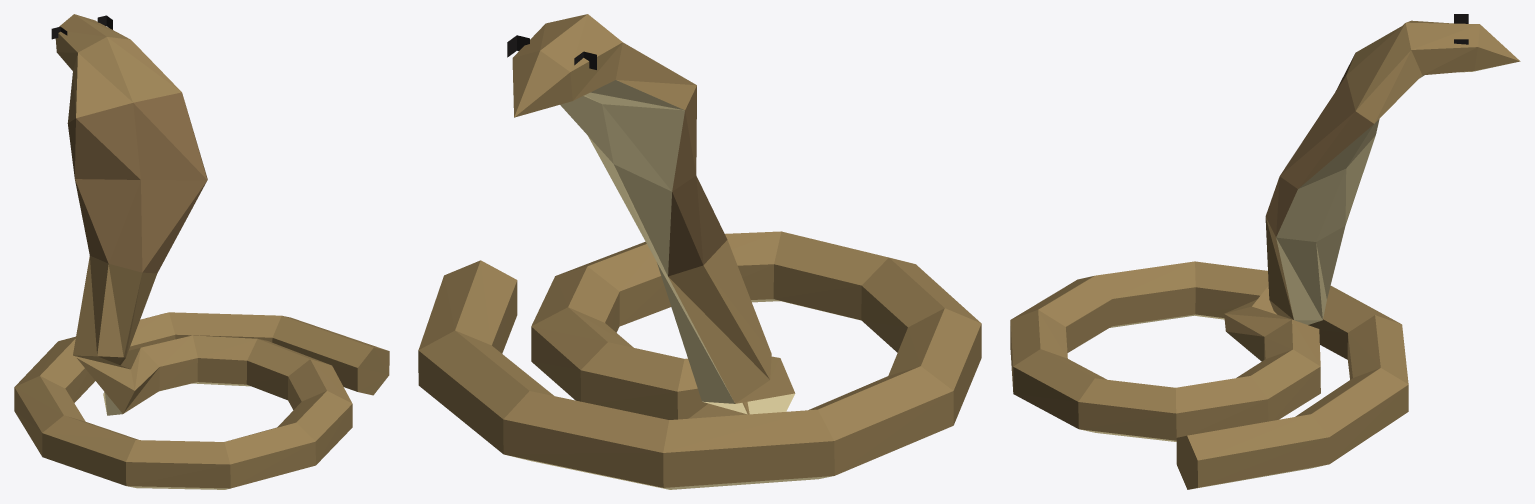
The model's file is animal_cobra.obj.
3 views of the same model, side by side, from view 1: azimuth 30°, elevation 25°; view 2: azimuth 150°, elevation 25°; view 3: azimuth 270°, elevation 25° (orthographic). The views are drawn at different scales.
Parts seen in each view (by area): view 1: animal_cobra; view 2: animal_cobra; view 3: animal_cobra.
Part boxes in pixels (x1,y1,x2,y2): animal_cobra: (14, 14, 389, 489); animal_cobra: (418, 14, 981, 489); animal_cobra: (1010, 14, 1520, 489).
Size of the model in its own units: 0.6151 by 0.5553 by 0.6881.
